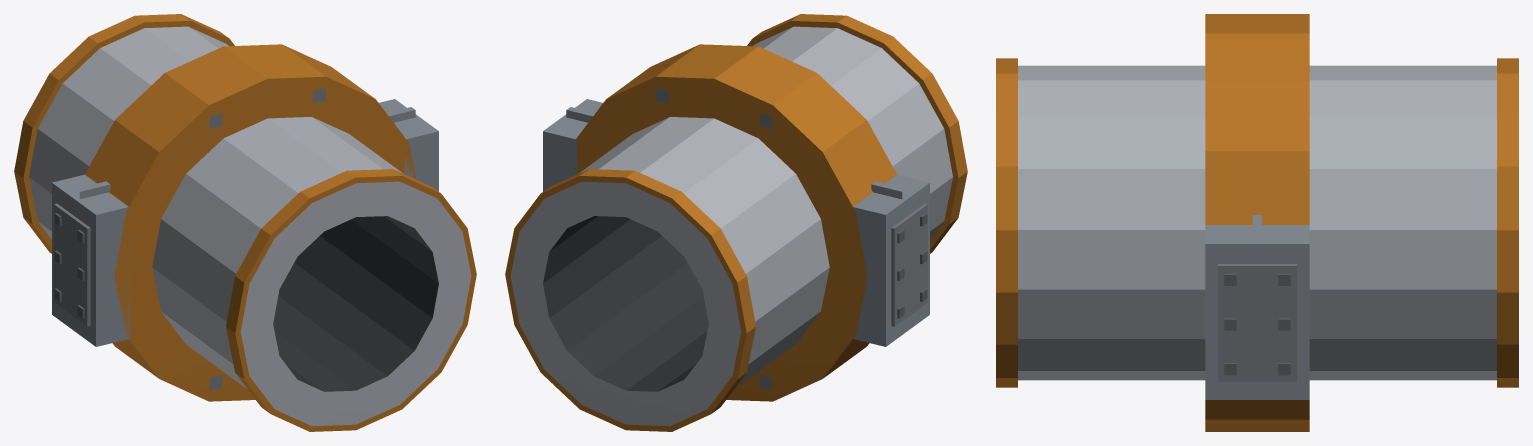
File: pipe.junction.orange.glb
The picture shows the model from 3 angles, left to right: view 1: azimuth 30°, elevation 25°; view 2: azimuth 150°, elevation 25°; view 3: azimuth 270°, elevation 25°; orthographic projection. The views are drawn at different scales.
Parts seen in each view (by area): view 1: pipe_junction_orange; view 2: pipe_junction_orange; view 3: pipe_junction_orange.
Boxes of the visible parts, x1,y1,x2,y2 form: pipe_junction_orange: [14, 14, 476, 431]; pipe_junction_orange: [505, 14, 967, 431]; pipe_junction_orange: [996, 14, 1518, 431].
Size of what is drawn, in the model's own units: 1.96 by 1.7 by 2.12.
